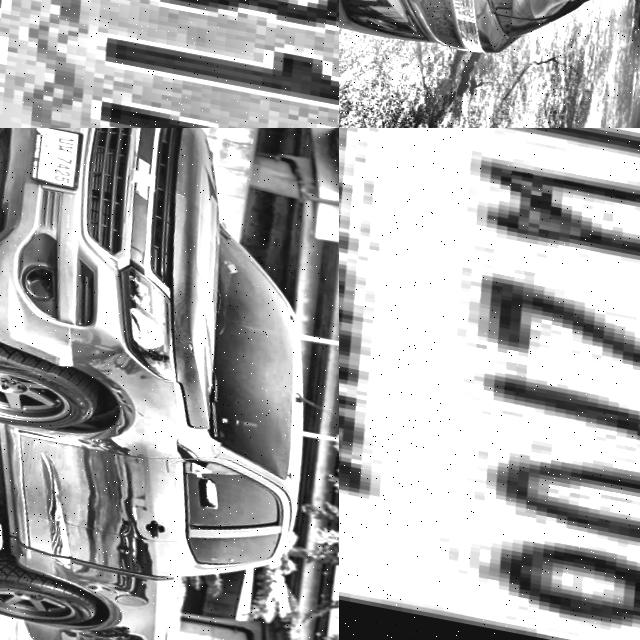license-plate: (339, 128, 640, 640), (0, 0, 339, 128), (23, 128, 88, 192)
